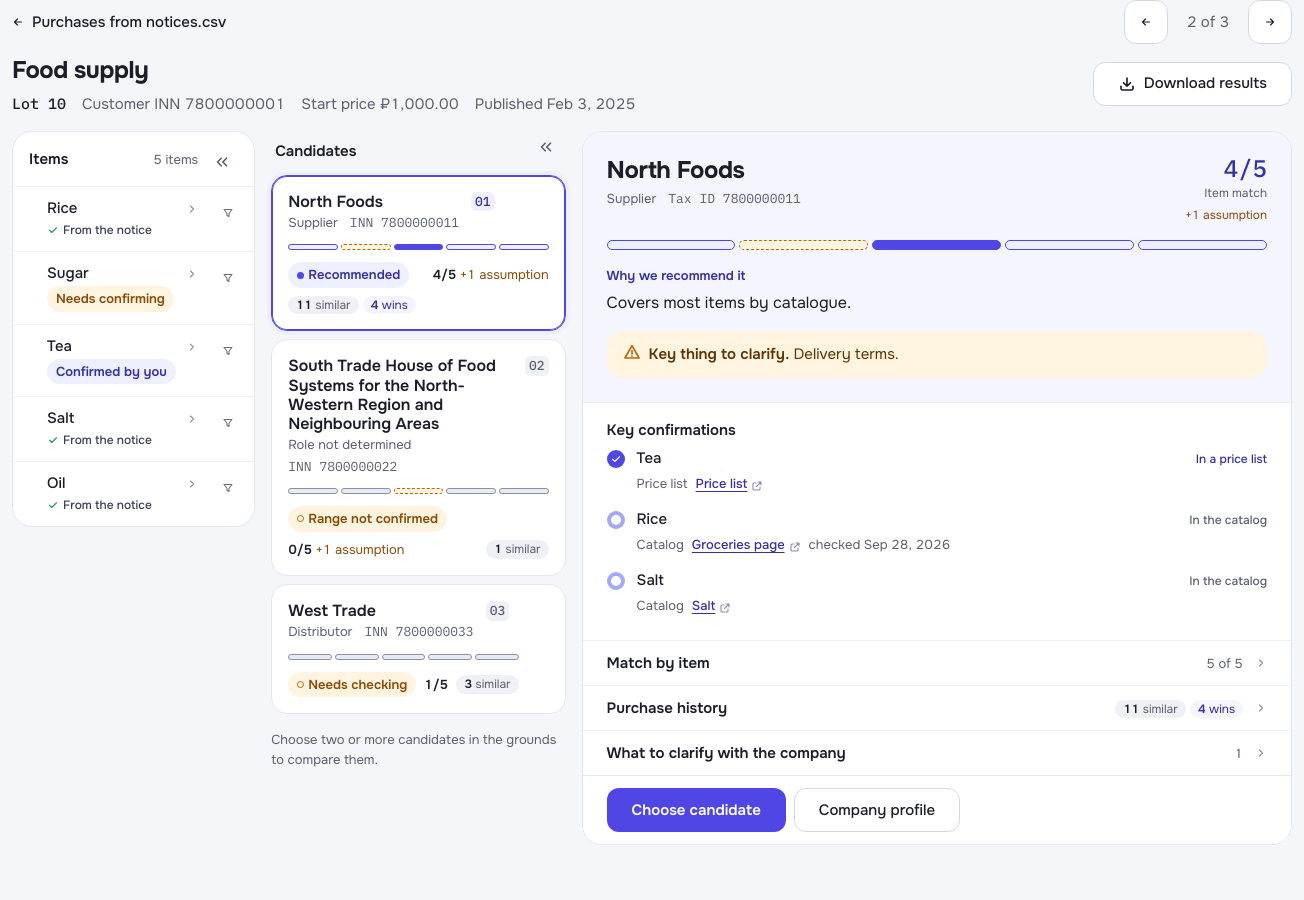
Test: the grounds panel › does not hide missing records or missing sources
Check: the heading "Food supply" is shown, box [12,55,148,85]
Click the button named "South Trade House of Food Systems for the North-Western Region and Neighbouring Areas" at (392, 366), box [271,339,566,576]
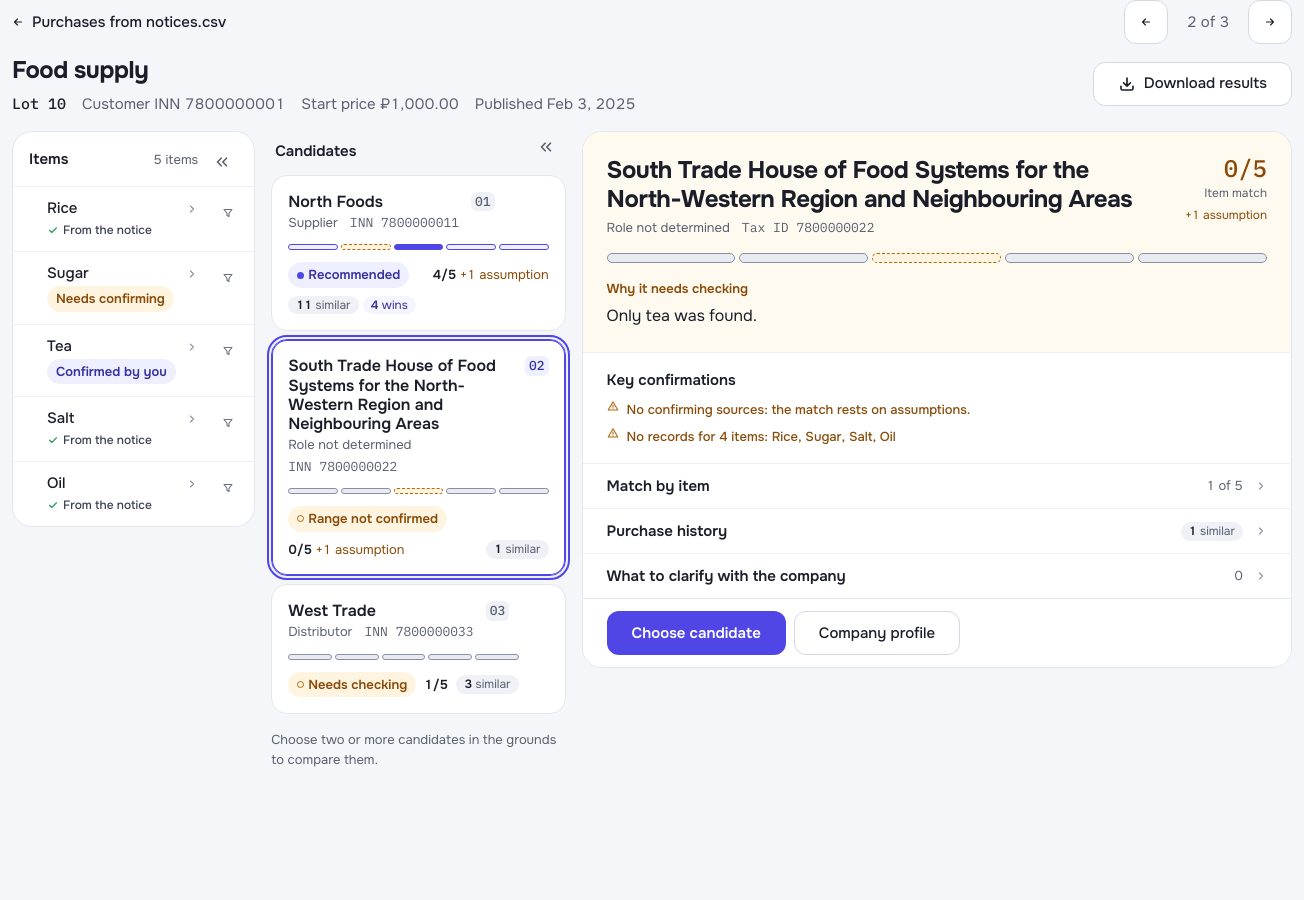
Check: the heading "Why it needs checking" is shown, box [607,280,748,297]
Check: the text "No confirming sources: the match rests on assumptions." is shown, box [607,400,970,418]
Check: the text "No records for 4 items: Rice, Sugar, Salt, Oil" is shown, box [607,428,896,446]
Click the heading "Purchase history" at (667, 531), box [607,521,727,541]
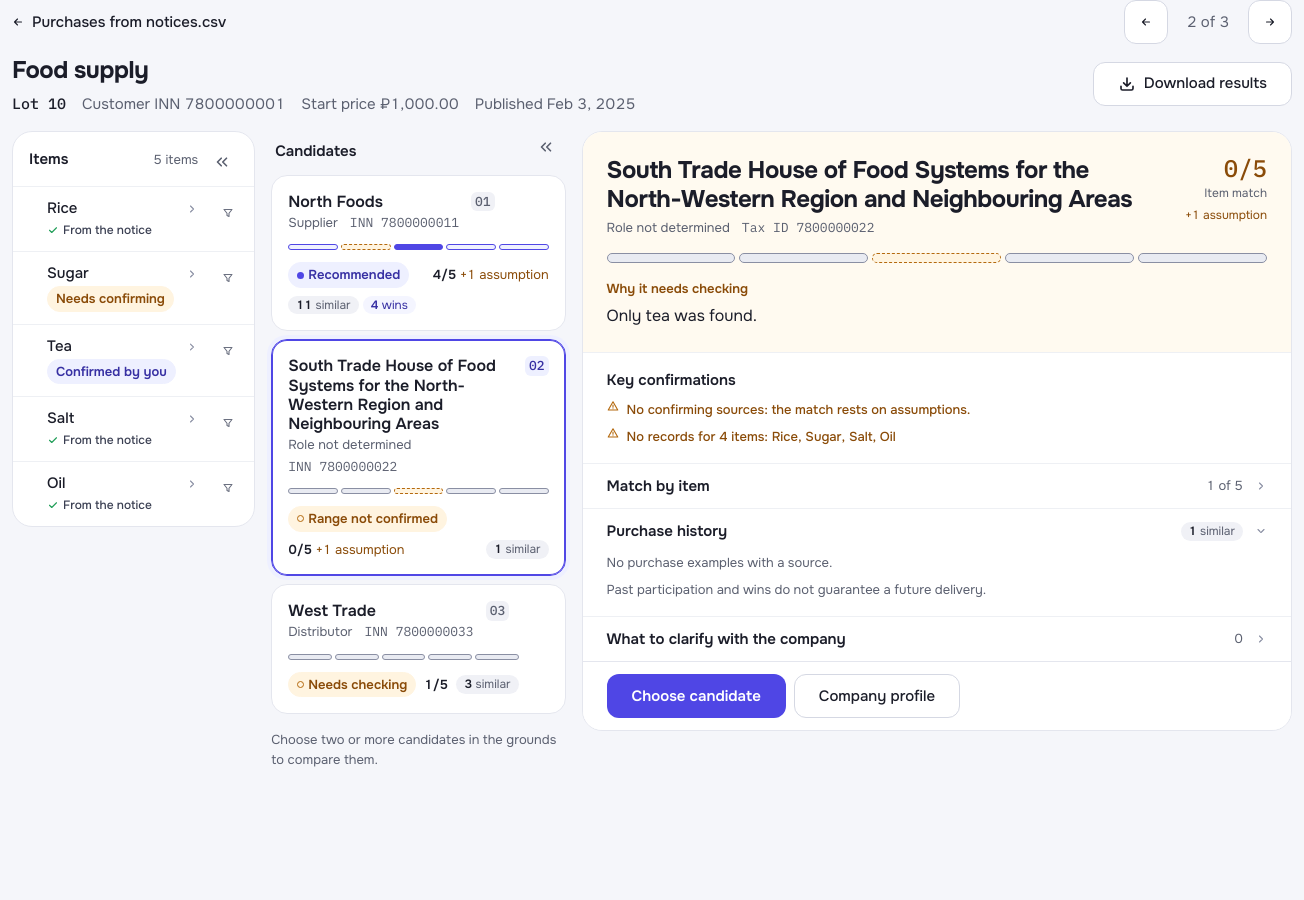
Check: the text "No purchase examples with a source." is shown, box [607,554,833,571]
Click the heading "What to clarify with the company" at (726, 639), box [607,629,846,649]
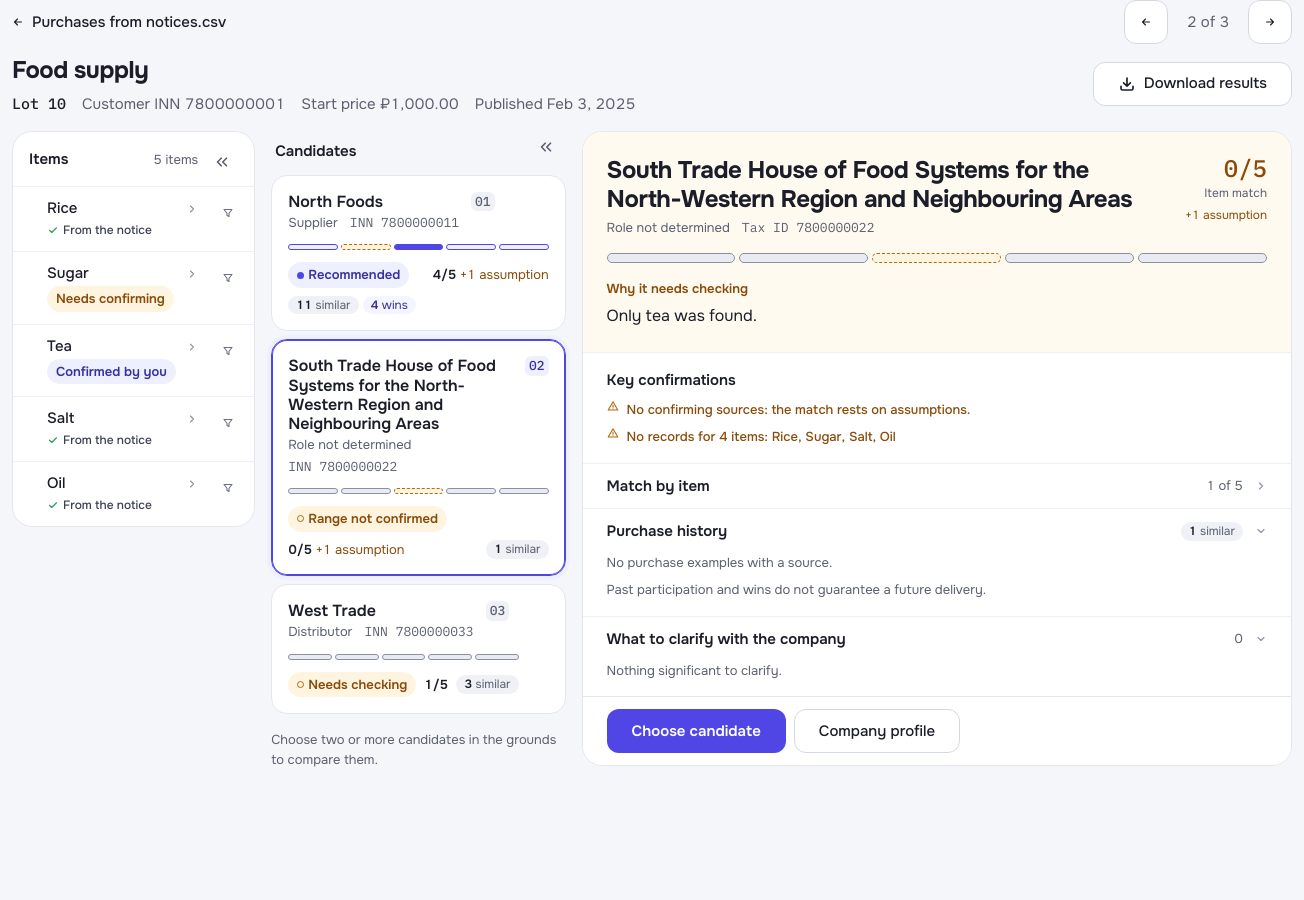
Check: the text "Nothing significant to clarify." is shown, box [607,662,782,679]
